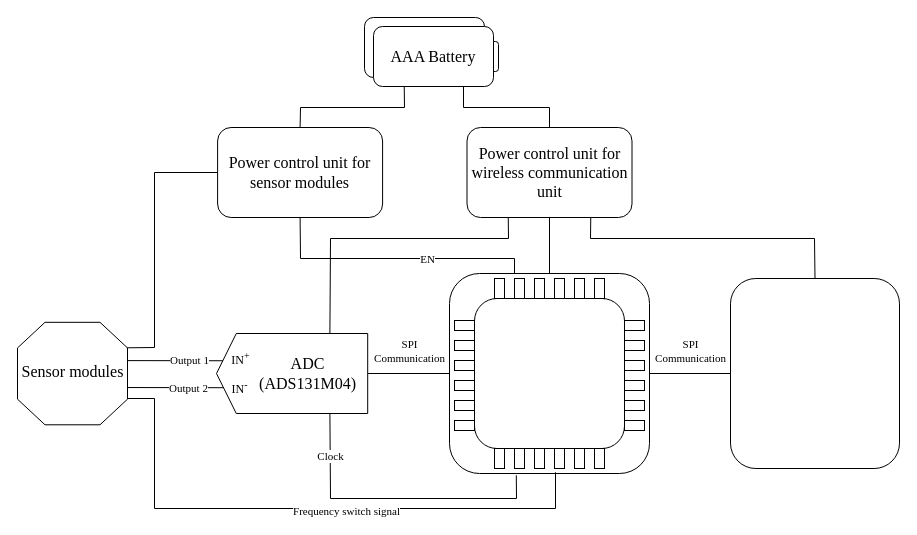
Image size: 917x535. Some labels were removed from this diagram. The shapes that lost their labels are listed below. From the top down, each one's centre as x and y in pixels, then its label:
At (x=549, y=373): "MCU (STM32L432)".
At (x=815, y=373): "Bluetooth ® LE module (BC805M)".
